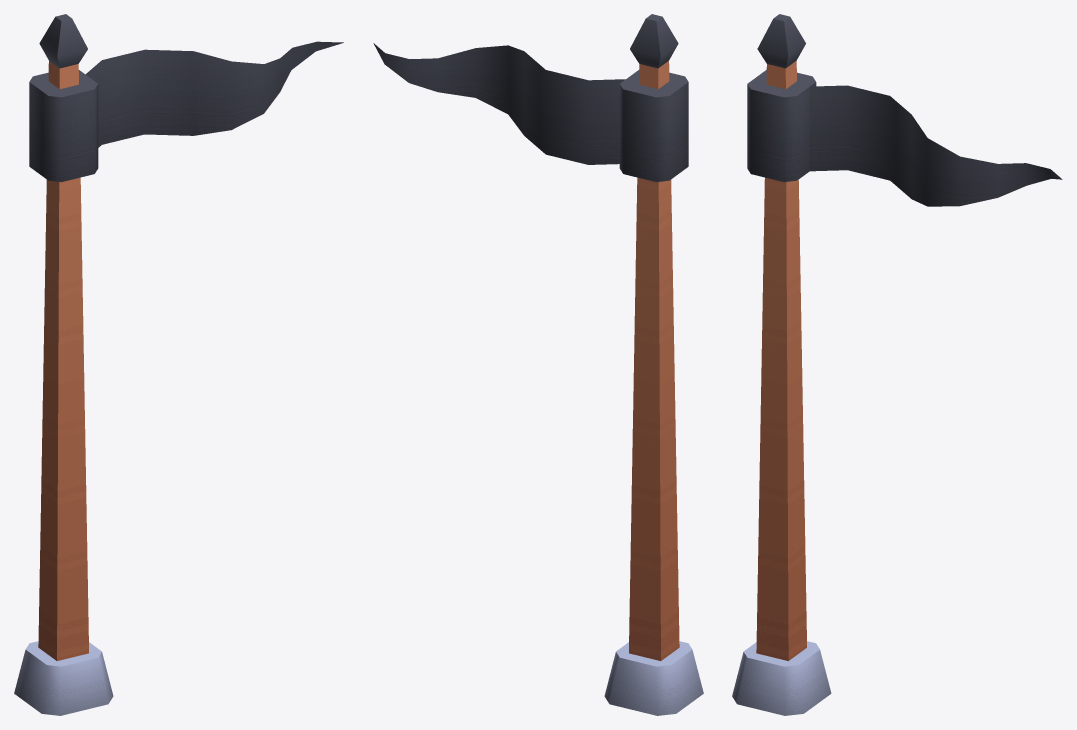
File: flag-pirate-high-pennant.glb
3 renders of one model, left to right at view 1: azimuth 30°, elevation 25°; view 2: azimuth 150°, elevation 25°; view 3: azimuth 330°, elevation 25°, orthographic.
Visible parts, largest first — view 1: flag-pirate-high-pennant; view 2: flag-pirate-high-pennant; view 3: flag-pirate-high-pennant.
Part boxes in pixels (bbox=[...]): flag-pirate-high-pennant: bbox=[14, 14, 343, 715]; flag-pirate-high-pennant: bbox=[373, 14, 703, 715]; flag-pirate-high-pennant: bbox=[732, 14, 1062, 715].
Size of the model in its own units: 1.76 by 3.6 by 0.3989.
Materials: 1 (1 with a texture image).
